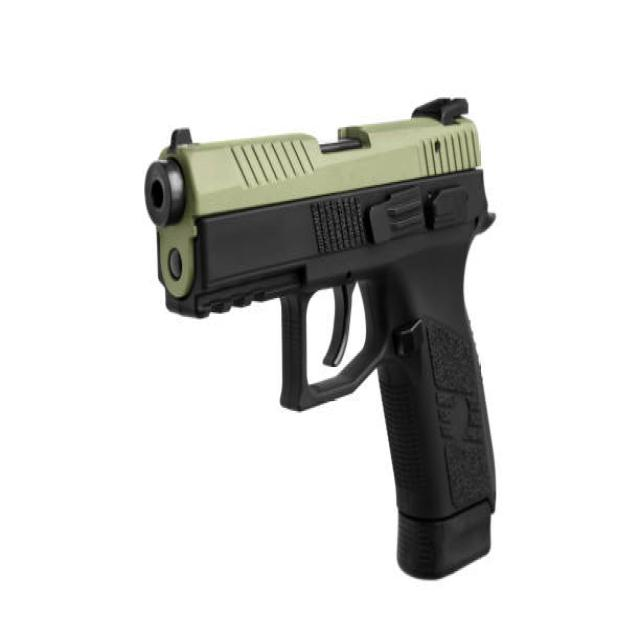pistol: (143, 91, 510, 592)
